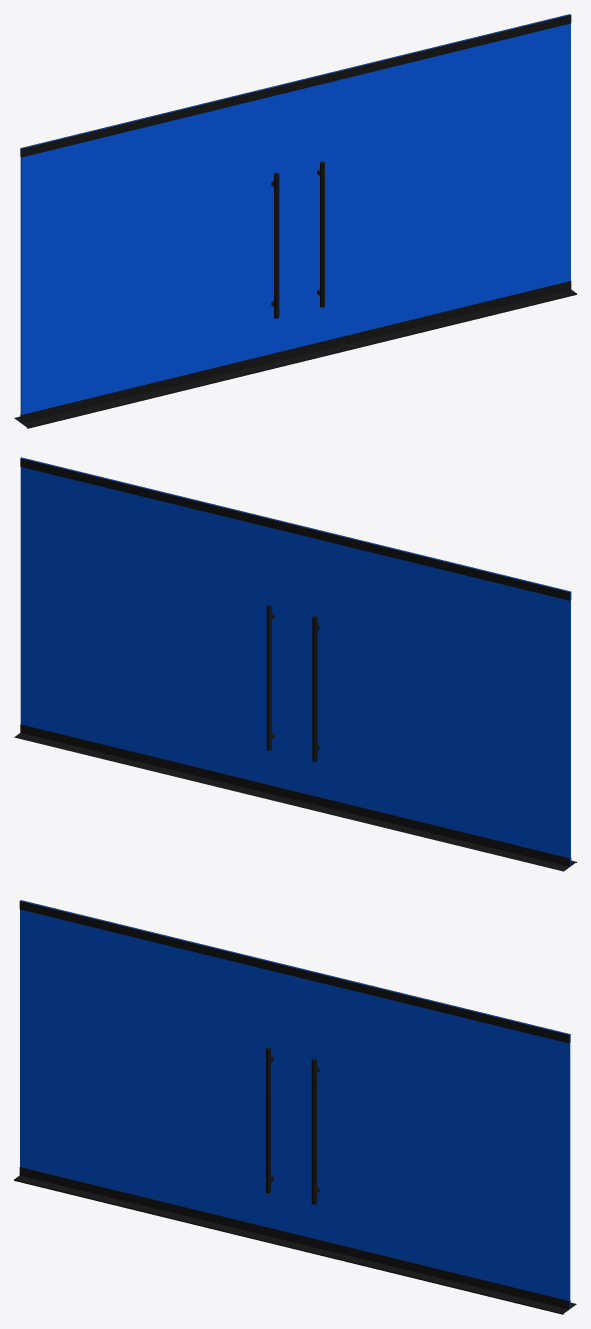
Rendered from Door_c5bu08.fbx.
3 renders of one model, top to bottom at view 1: azimuth 30°, elevation 25°; view 2: azimuth 150°, elevation 25°; view 3: azimuth 330°, elevation 25°, orthographic.
Parts seen in each view (by area): view 1: Door_c5bu08_Glass, Door_c5bu08_DoorRight, Door_c5bu08_DoorLeft; view 2: Door_c5bu08_Glass, Door_c5bu08_DoorRight, Door_c5bu08_DoorLeft; view 3: Door_c5bu08_Glass, Door_c5bu08_DoorRight, Door_c5bu08_DoorLeft.
Part boxes in pixels (<box>): Door_c5bu08_Glass: <box>14,14,576,428</box>; Door_c5bu08_DoorRight: <box>295,47,433,356</box>; Door_c5bu08_DoorLeft: <box>158,81,296,389</box>; Door_c5bu08_Glass: <box>14,457,576,871</box>; Door_c5bu08_DoorRight: <box>157,491,295,799</box>; Door_c5bu08_DoorLeft: <box>295,524,433,833</box>; Door_c5bu08_Glass: <box>14,900,576,1314</box>; Door_c5bu08_DoorRight: <box>294,967,432,1275</box>; Door_c5bu08_DoorLeft: <box>157,933,295,1242</box>.
Size of the model in its own units: 480 by 230 by 20.
